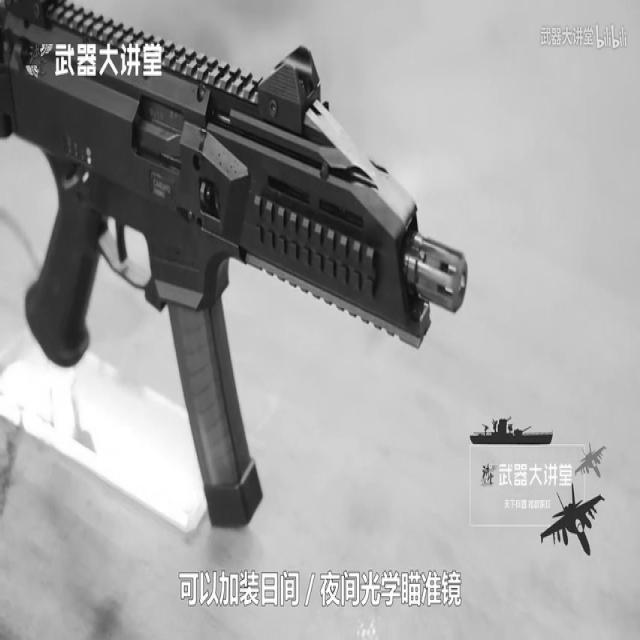Sub-machine-gun: (3, 0, 458, 503)
